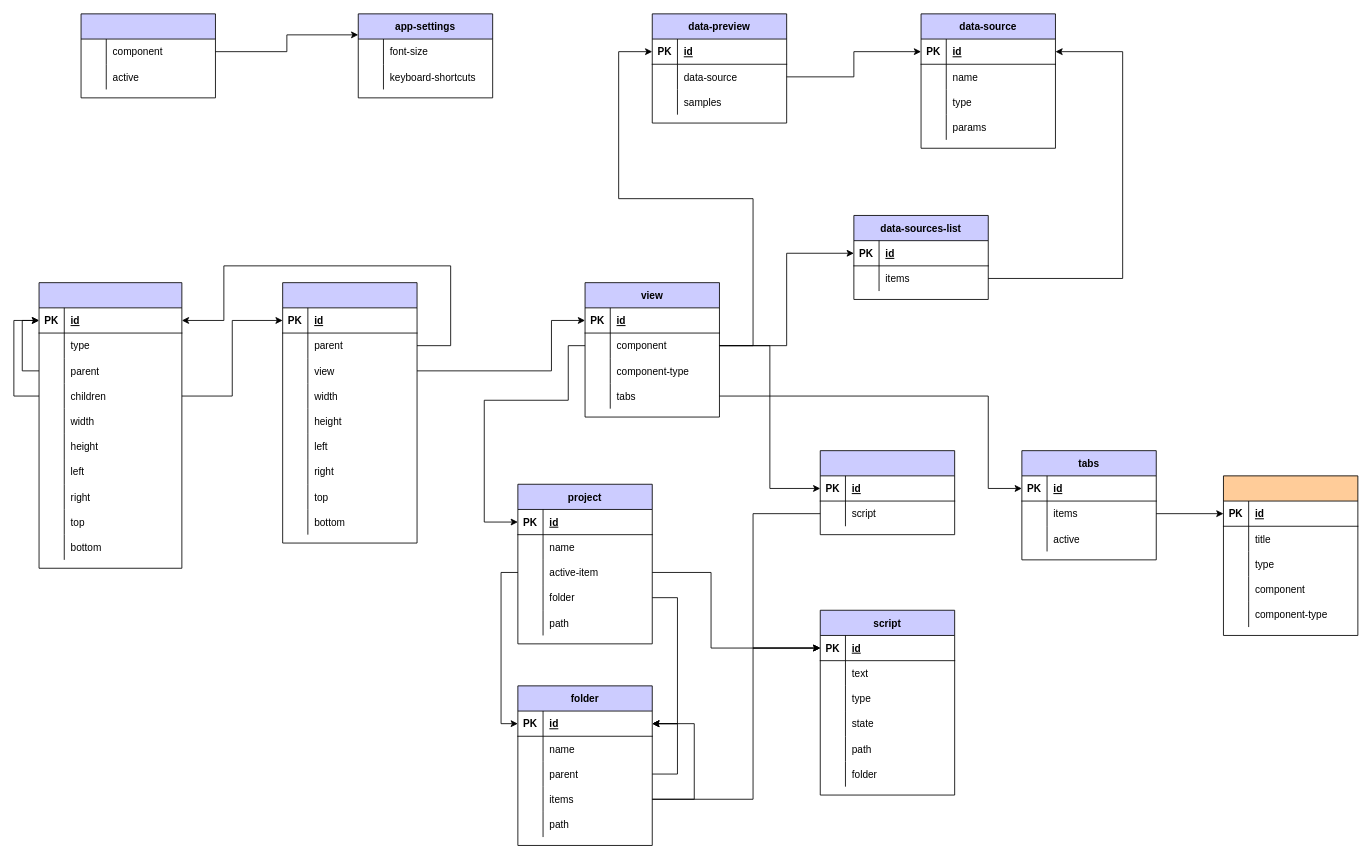
This 1372x859 diagram has some shape labels left out. The shapes that lost their labels are listed below. From the top down, each one's box as (x1, y1, x2, y2) in pixels, then its label:
(80, 13, 215, 98): popup-view
(38, 282, 182, 568): pane-group
(282, 282, 417, 543): pane
(819, 450, 955, 535): editor
(1223, 475, 1358, 635): tab-item
